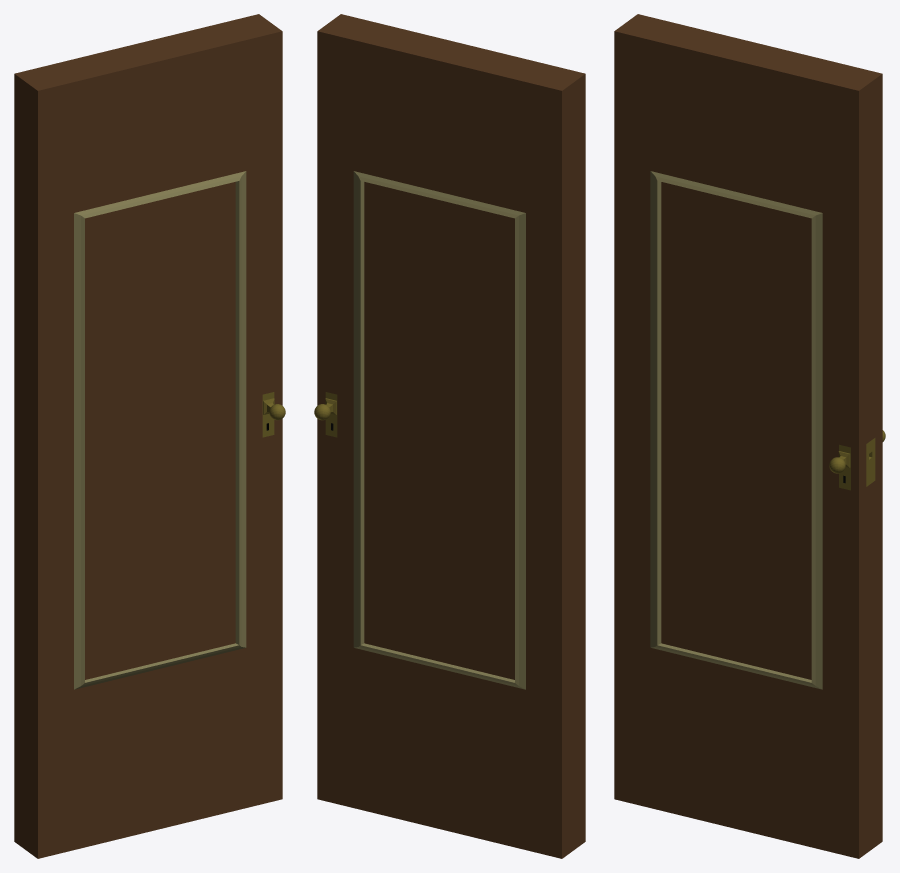
File: puerta.fbx
3 renders of one model, left to right at view 1: azimuth 30°, elevation 25°; view 2: azimuth 150°, elevation 25°; view 3: azimuth 330°, elevation 25°, orthographic.
Visible parts, largest first — view 1: Plano; view 2: Plano; view 3: Plano.
Boxes of the visible parts, bbox=[...] form: Plano: bbox=[14, 14, 285, 858]; Plano: bbox=[314, 14, 585, 858]; Plano: bbox=[614, 14, 885, 858].
Bounding box in the file's own units: 300 × 900 × 102.
